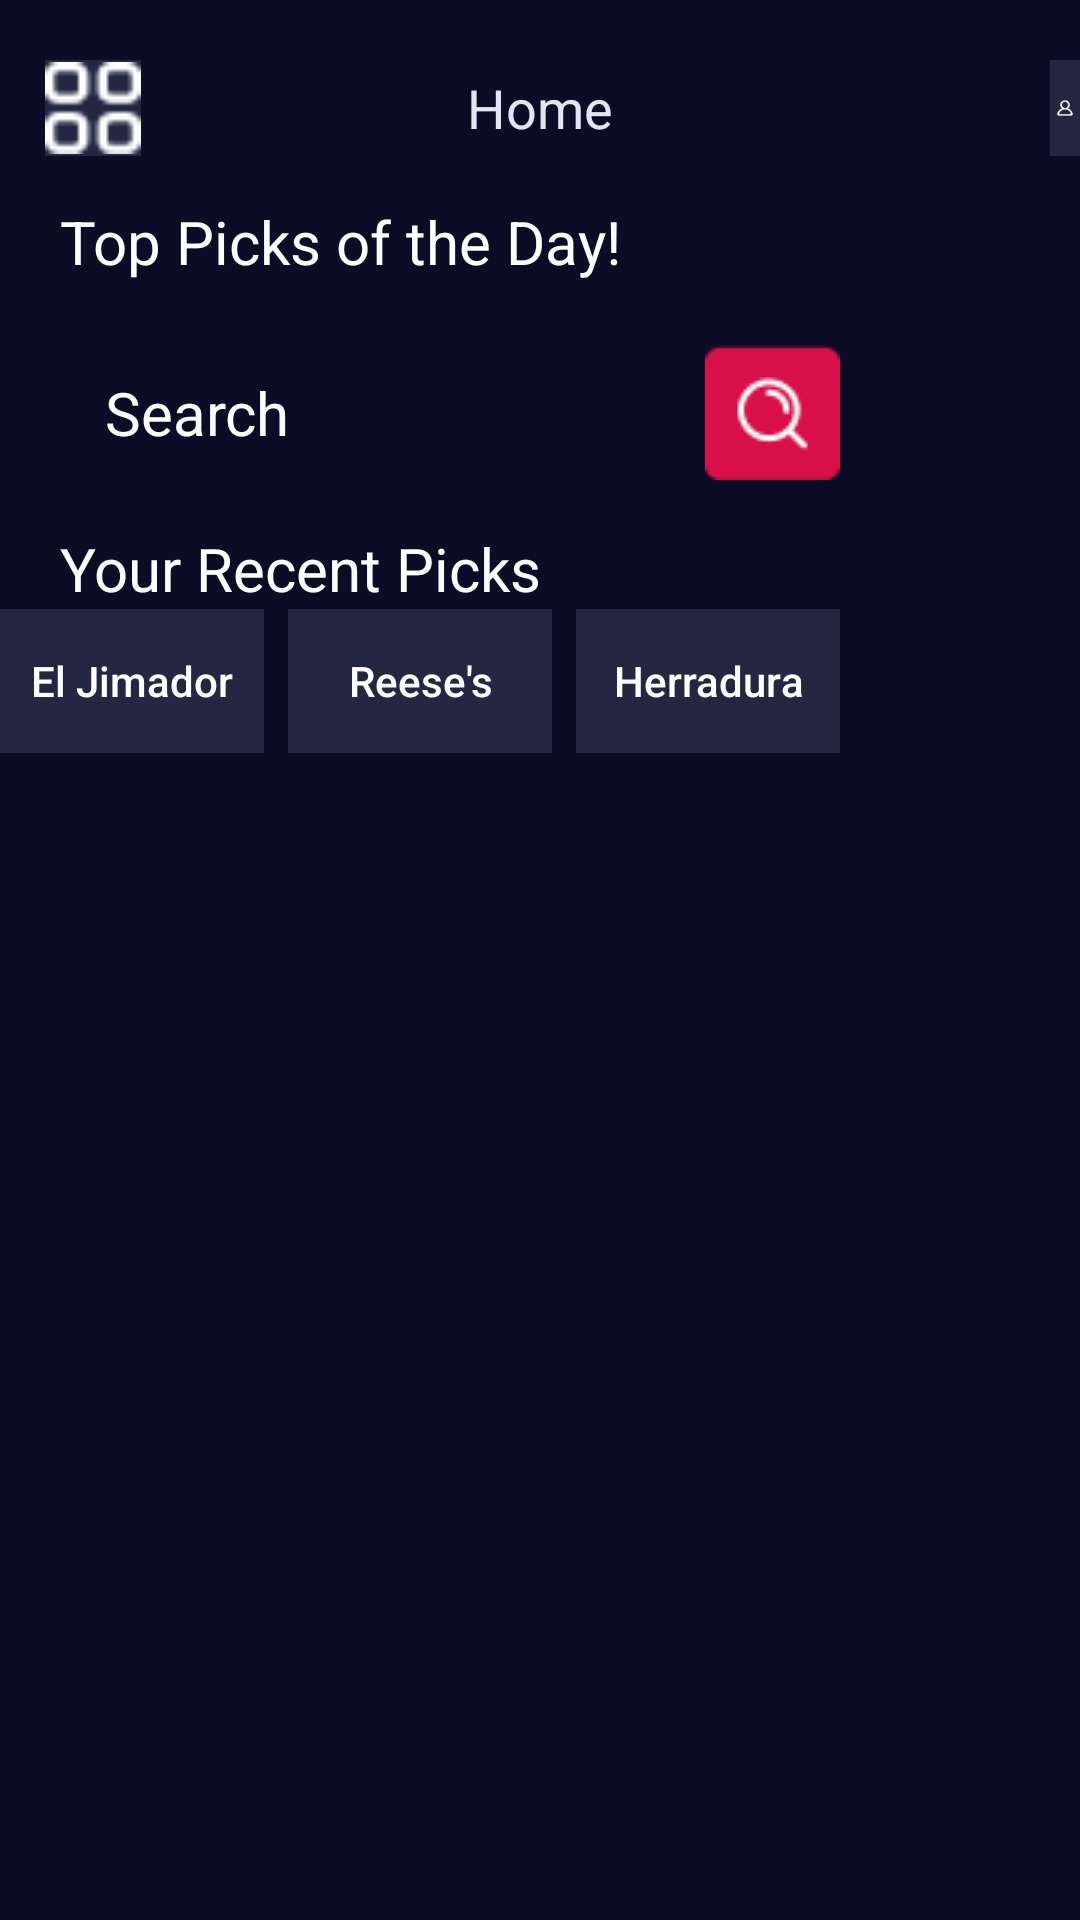

Screen size 1080px x 1920px. Icon name, then its box in pixels as (x1, y1, x2, y2):
profile: (1050, 60, 1080, 156)
